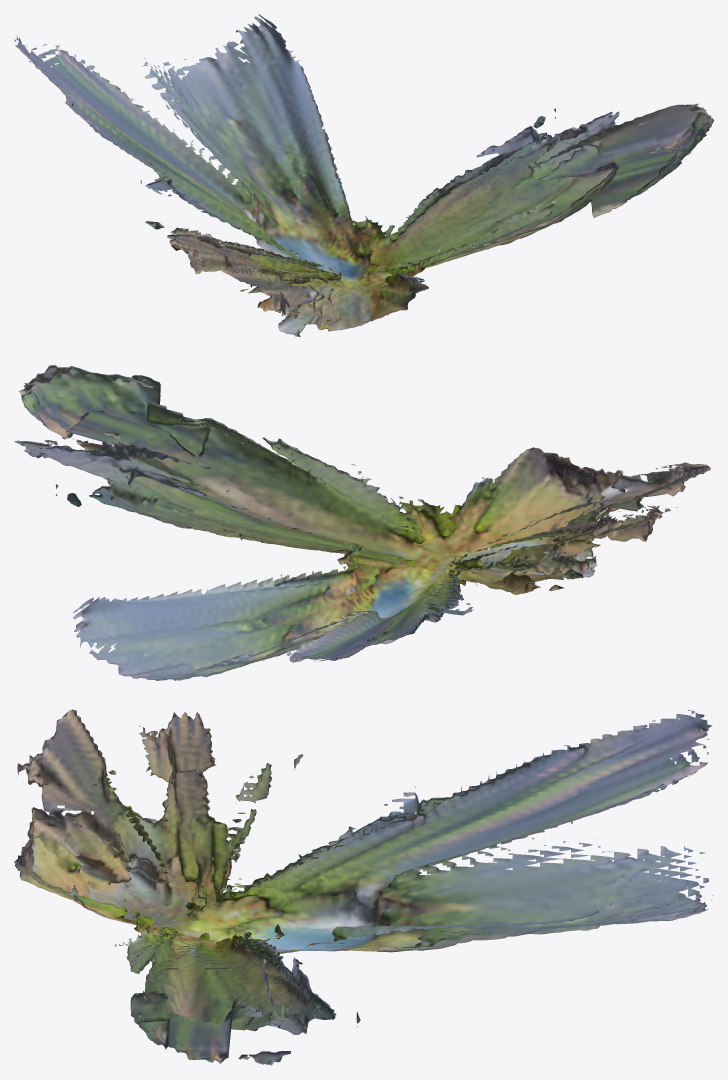
The model's file is minecraft_valley_collider.glb.
3 renders of one model, top to bottom at view 1: azimuth 30°, elevation 25°; view 2: azimuth 150°, elevation 25°; view 3: azimuth 270°, elevation 25°, orthographic. The views are drawn at different scales.
Parts seen in each view (by area): view 1: world; view 2: world; view 3: world.
Boxes of the visible parts, <box> form: world: <box>14,14,713,336</box>; world: <box>14,365,710,680</box>; world: <box>14,709,712,1065</box>.
Size of the model in its own units: 248 by 57.6 by 230.
